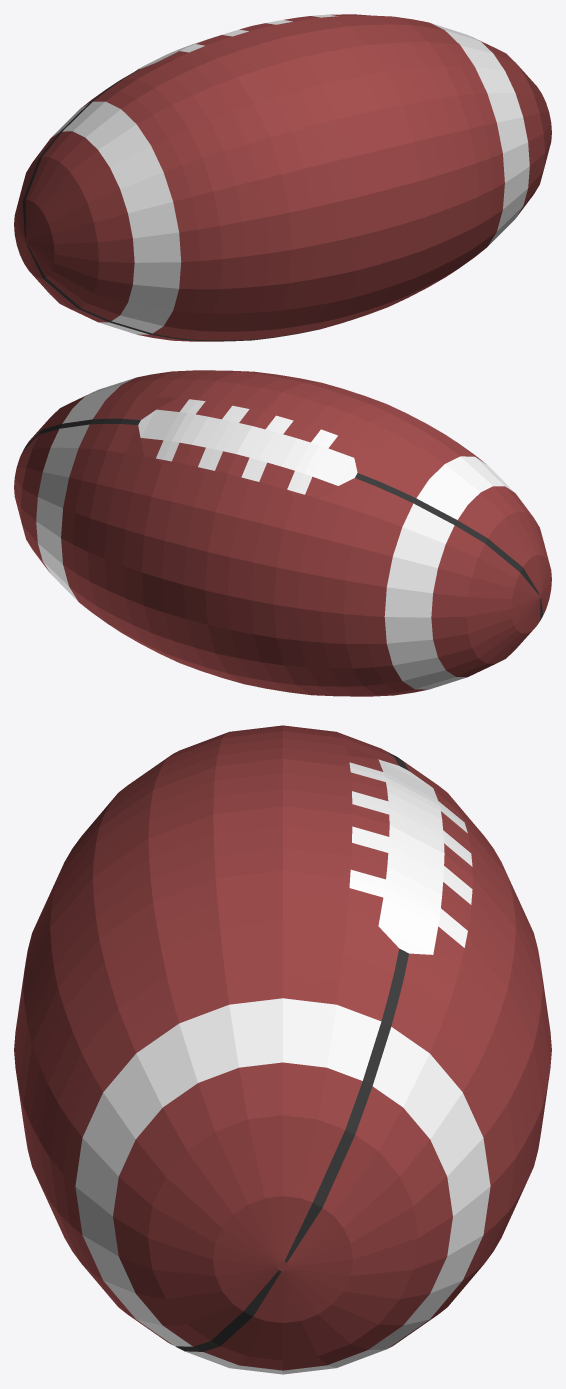
File: 1adb57a2-e9a2-494f-ad31-f807fd28322a.glb
3 renders of one model, top to bottom at view 1: azimuth 30°, elevation 25°; view 2: azimuth 150°, elevation 25°; view 3: azimuth 270°, elevation 25°, orthographic. The views are drawn at different scales.
Parts seen in each view (by area): view 1: Sphere002; view 2: Sphere002; view 3: Sphere002.
Boxes of the visible parts, x1=… form: Sphere002: x1=14, y1=14, x2=551, y2=341; Sphere002: x1=14, y1=370, x2=551, y2=696; Sphere002: x1=14, y1=725, x2=551, y2=1374.
Bounding box in the file's own units: 848980 × 445900 × 445900.
